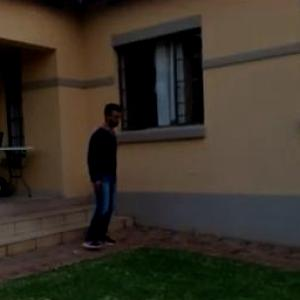follow: (90, 102, 130, 241)
